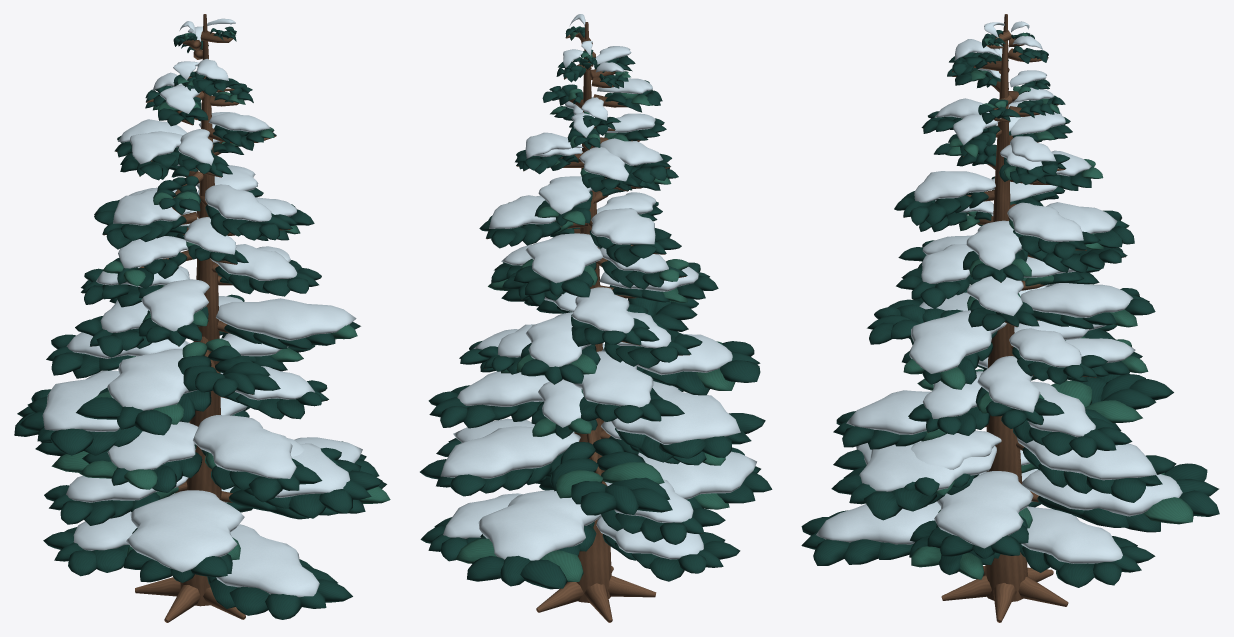
File: pine_3.glb
3 renders of one model, left to right at view 1: azimuth 30°, elevation 25°; view 2: azimuth 150°, elevation 25°; view 3: azimuth 270°, elevation 25°, orthographic.
Visible parts, largest first — view 1: pine_3; view 2: pine_3; view 3: pine_3.
Part boxes in pixels (left/top/right/bottom): pine_3: left=14, top=14, right=390, bottom=622; pine_3: left=420, top=14, right=772, bottom=622; pine_3: left=801, top=14, right=1219, bottom=622.
Size of the model in its own units: 2.69 by 4.67 by 3.04.
4 materials, 4 textured.
